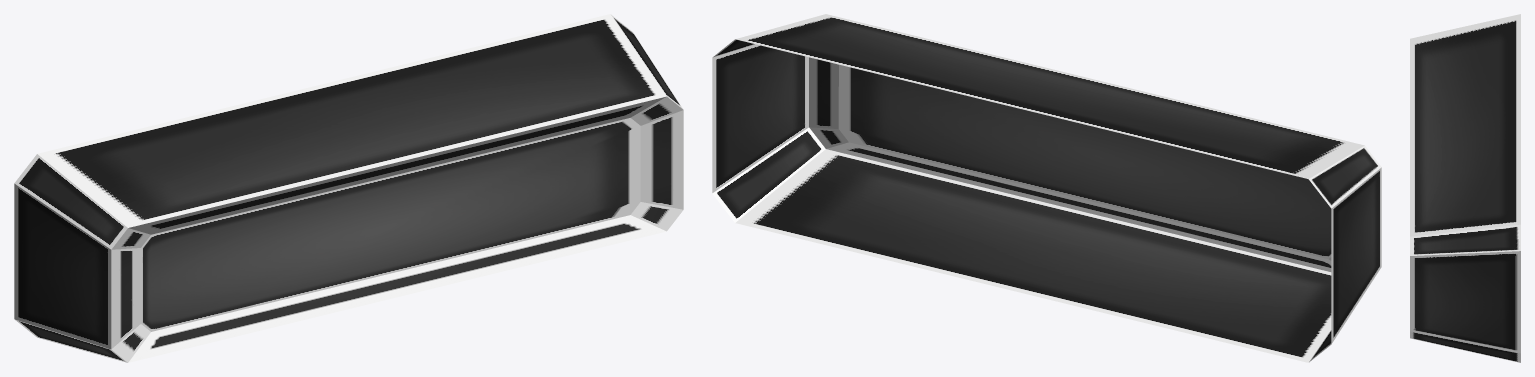
File: M_Stunt_Pole_01.FBX
The picture shows the model from 3 angles, left to right: view 1: azimuth 30°, elevation 25°; view 2: azimuth 150°, elevation 25°; view 3: azimuth 270°, elevation 25°; orthographic projection. The views are drawn at different scales.
Visible parts, largest first — view 1: M_Stunt_Pole_01; view 2: M_Stunt_Pole_01; view 3: M_Stunt_Pole_01.
Part boxes in pixels (x1,y1,x2,y2): M_Stunt_Pole_01: [14, 14, 683, 362]; M_Stunt_Pole_01: [712, 14, 1381, 362]; M_Stunt_Pole_01: [1410, 14, 1520, 362].
Bounding box in the file's own units: 17.28 × 4.9 × 3.56.
